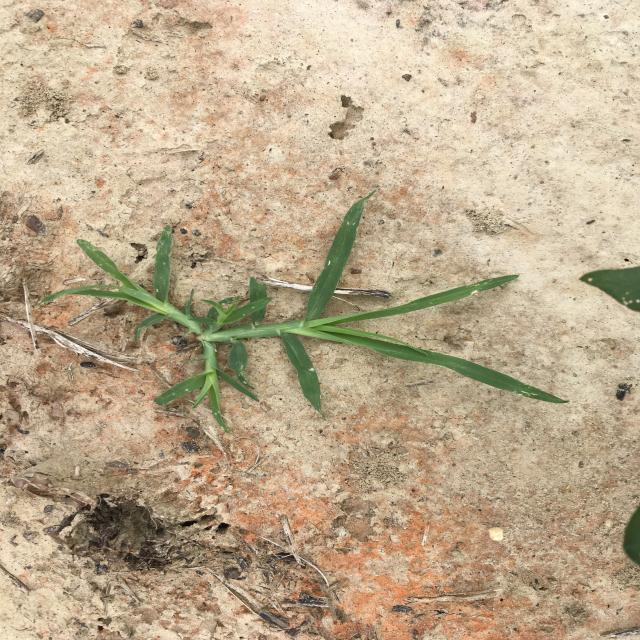Goosegrass: (39, 188, 569, 434)
